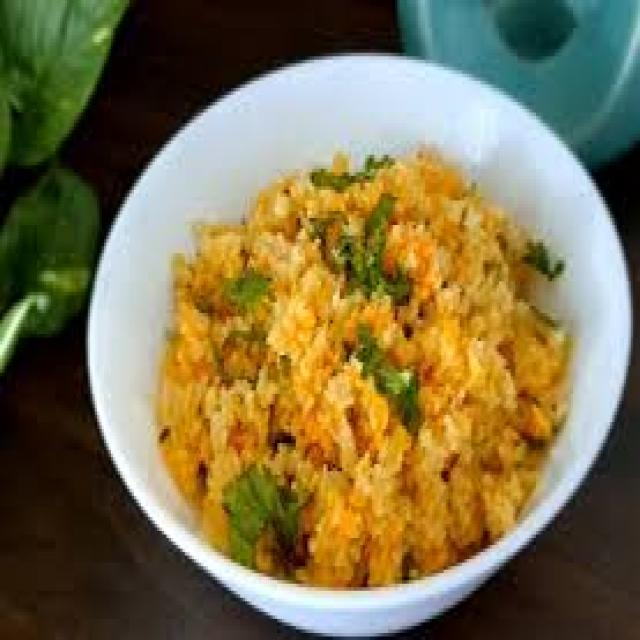POHA: (155, 155, 566, 584)
